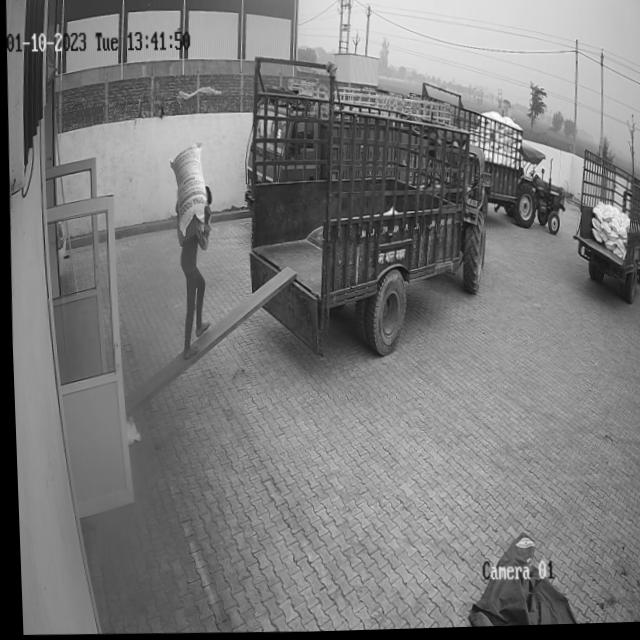sack: (165, 143, 206, 236)
